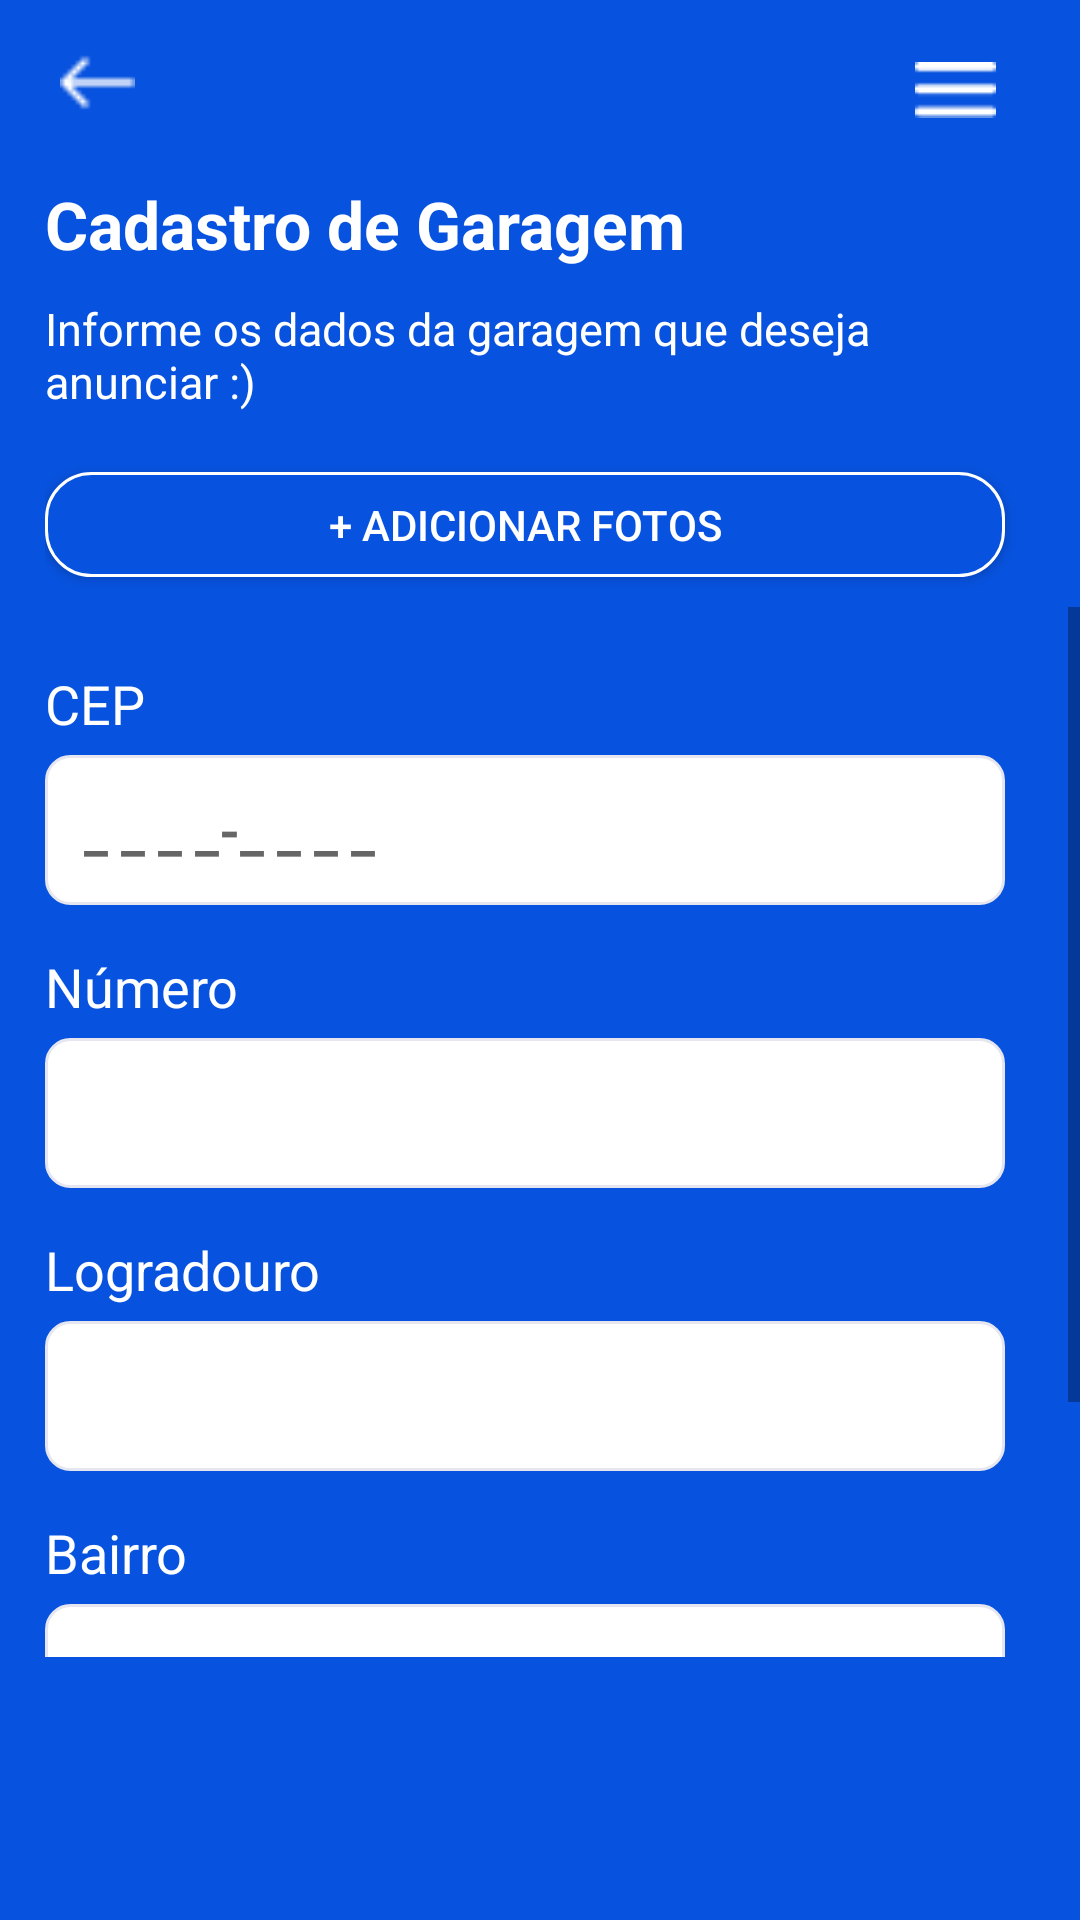

Where icons sit on this 1080px x 1920px app screen, as (x1, y1, x2, y2):
menu: (915, 62, 996, 118)
seta voltar: (60, 56, 135, 109)
